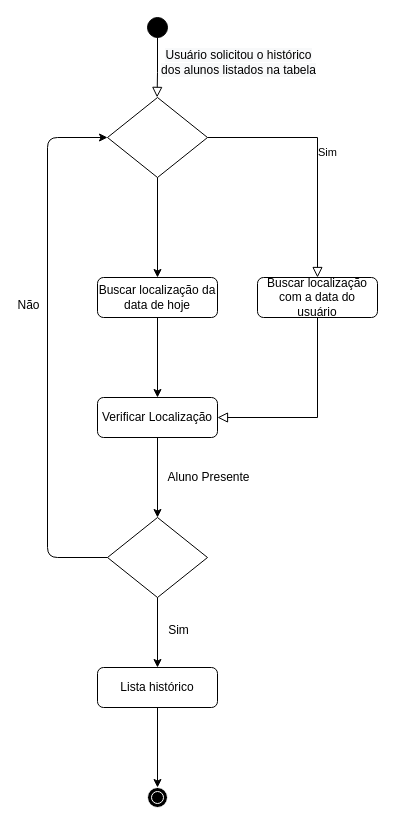
Image size: 395x825. Some labels were removed from this diagram. Here are the shapes that lost their labels. From the top down, the box of each, then its label:
(106, 96, 208, 178): Usuario preencheu o campo data?
(106, 516, 208, 598): Todos os aluno verificados?
